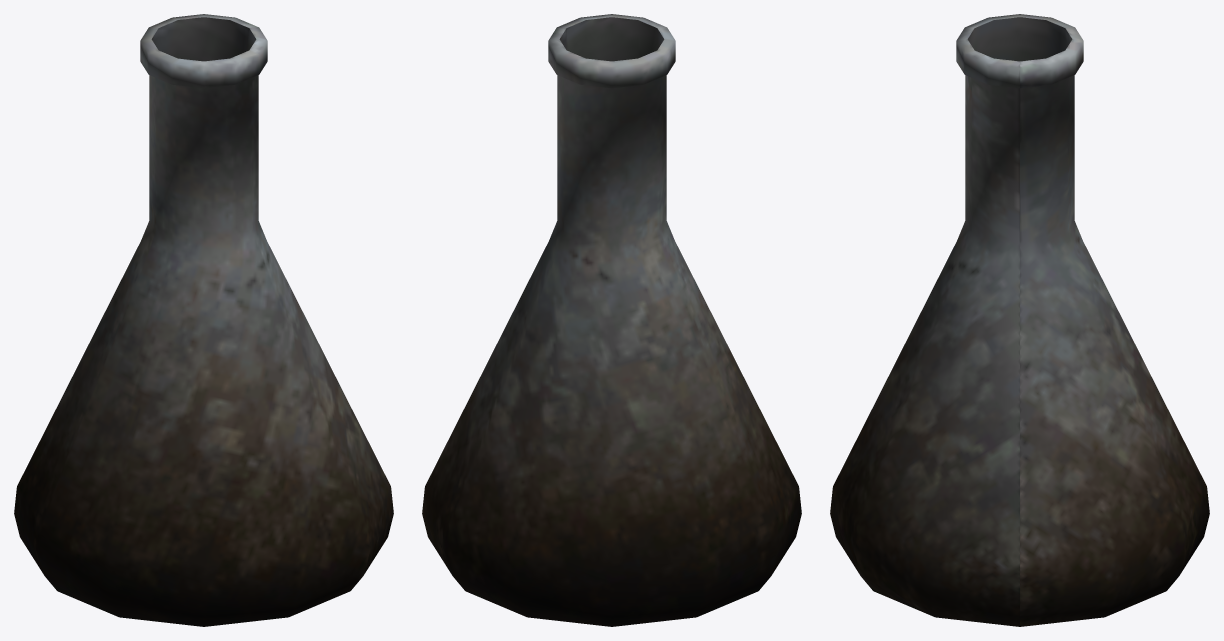
Rendered from flask.DAE.
3 renders of one model, left to right at view 1: azimuth 30°, elevation 25°; view 2: azimuth 150°, elevation 25°; view 3: azimuth 270°, elevation 25°, orthographic.
Visible parts, largest first — view 1: flask; view 2: flask; view 3: flask.
Boxes of the visible parts, bbox=[...] form: flask: bbox=[14, 14, 393, 626]; flask: bbox=[422, 14, 801, 626]; flask: bbox=[830, 14, 1209, 626].
Bounding box in the file's own units: 7.82 × 7.82 × 11.93.
